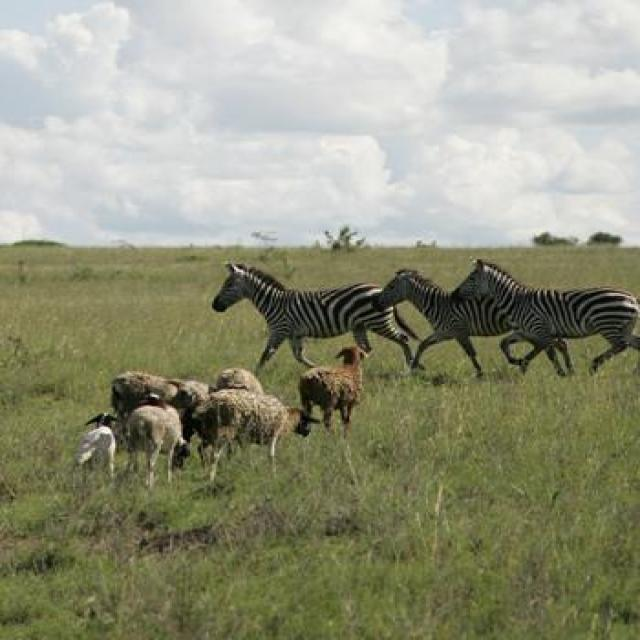Sheep: (194, 387, 322, 483), (122, 395, 194, 491), (300, 346, 367, 427), (112, 371, 188, 442)
